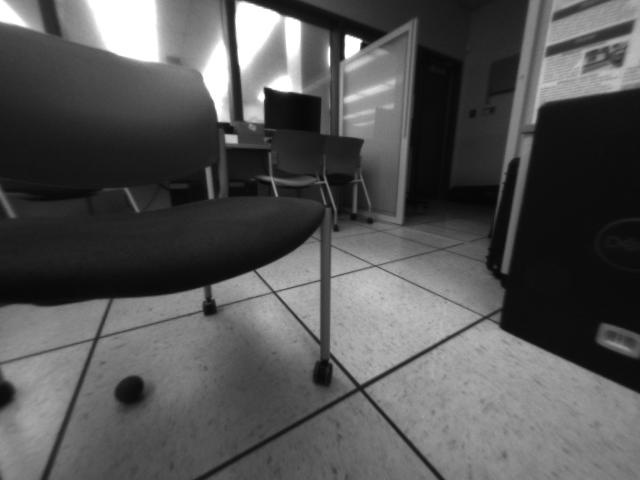dogtoy: (105, 368, 157, 409)
